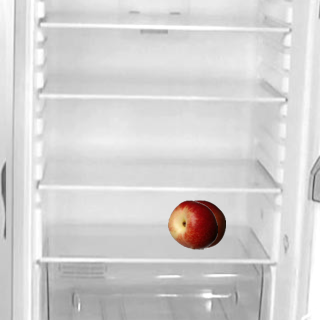Apple Braeburn: (175, 199, 225, 249)
Nectarine: (167, 199, 217, 249)
